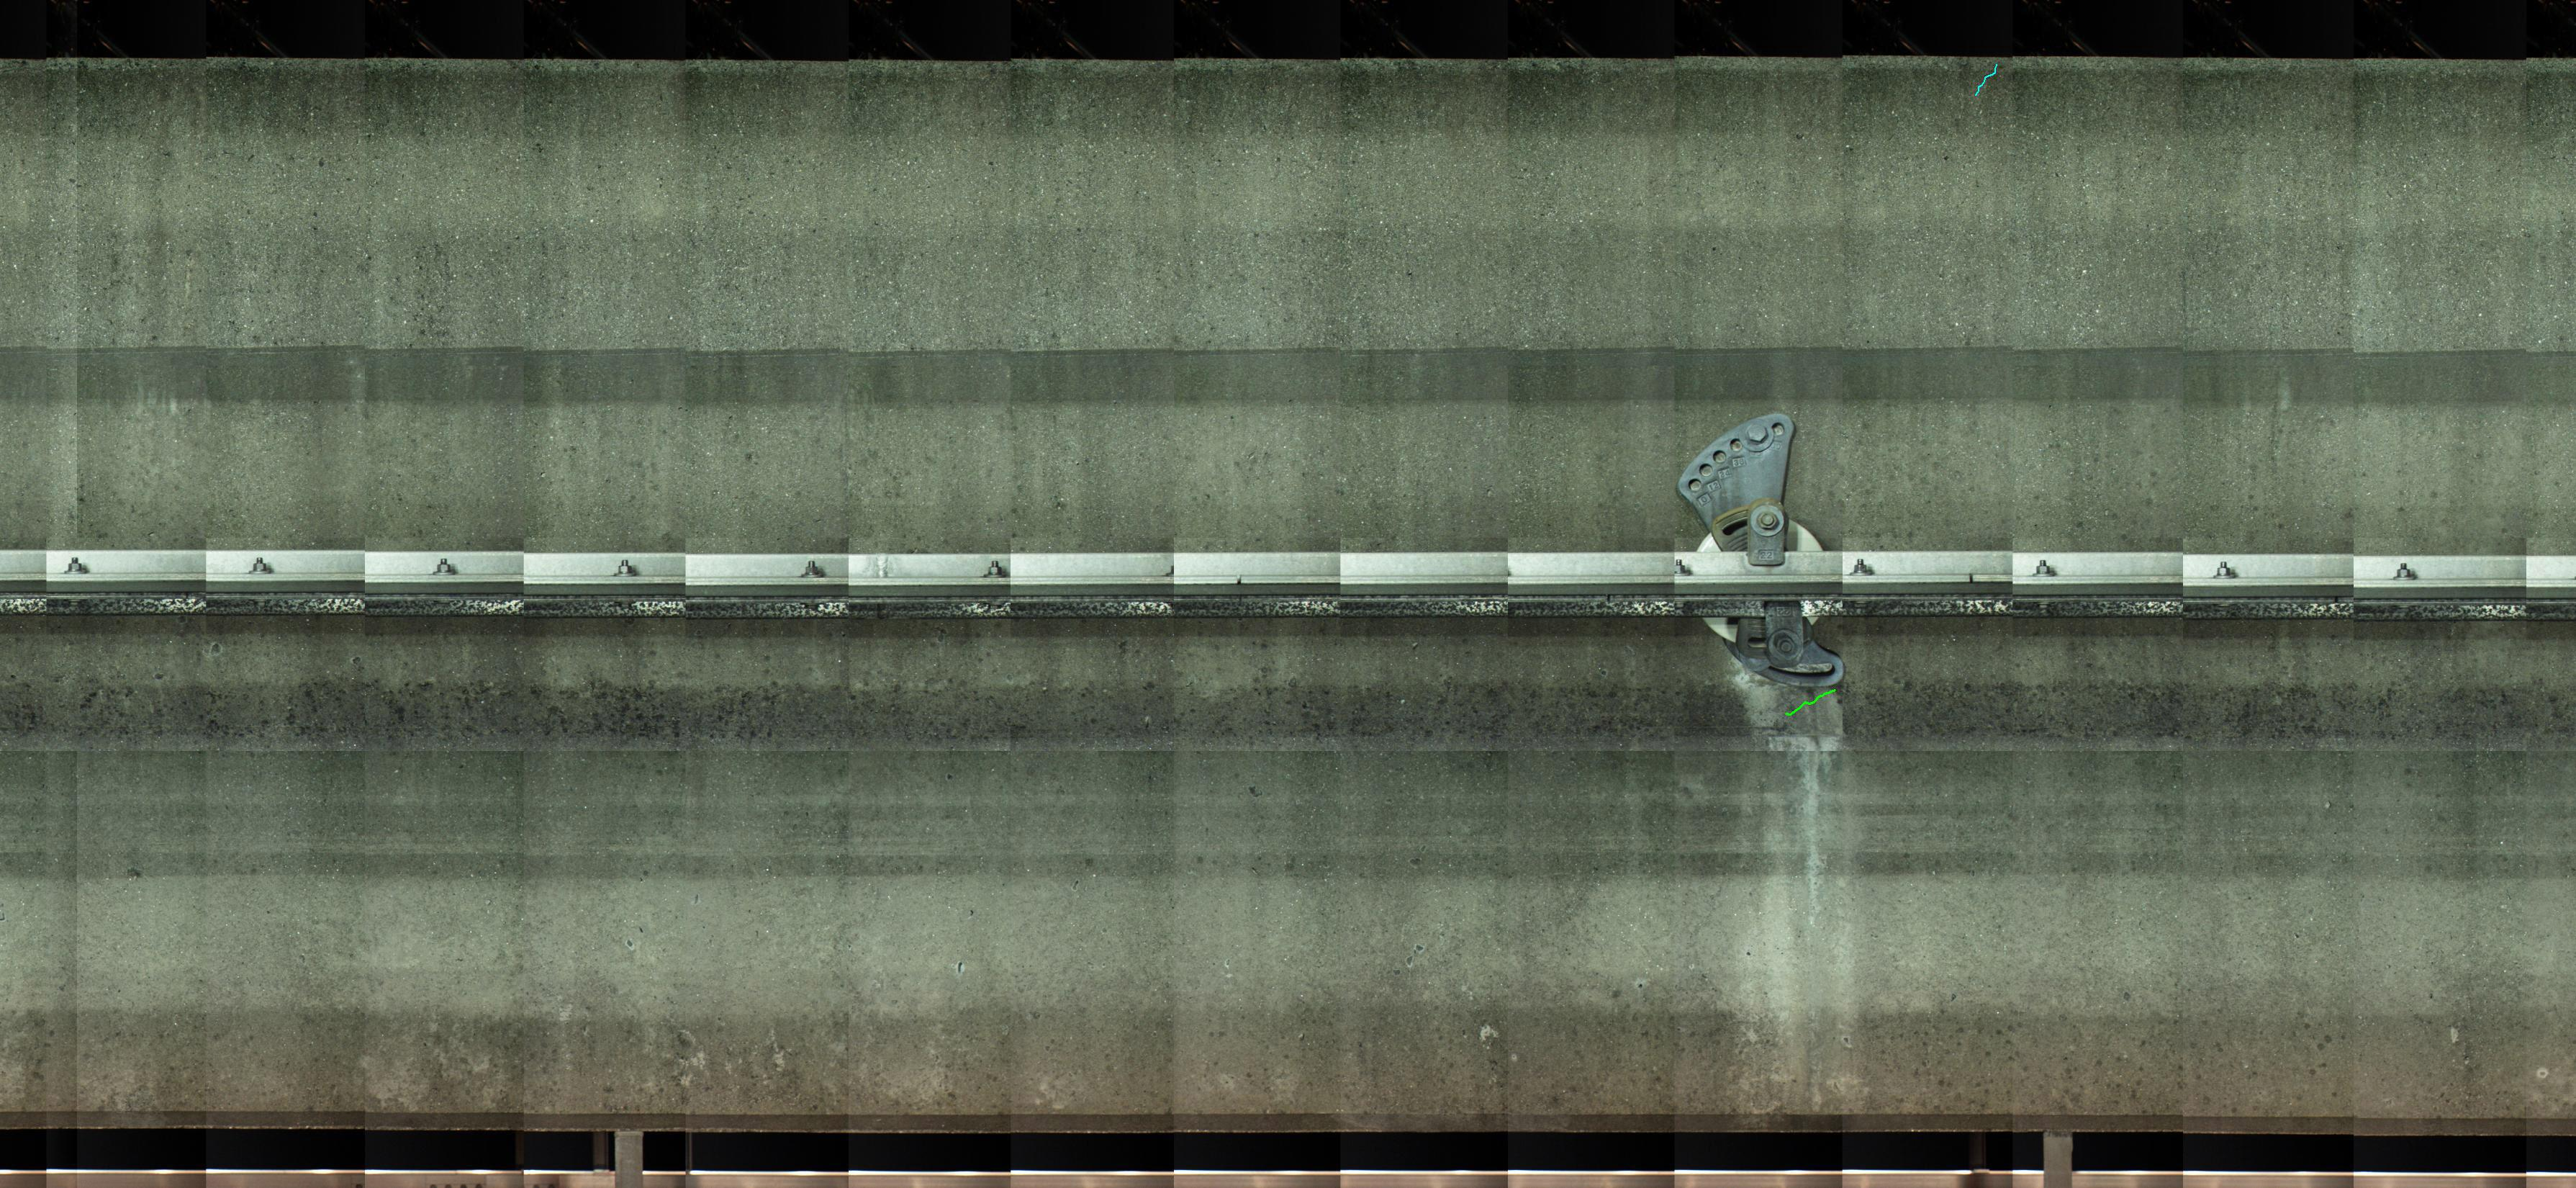concrete: (2, 615, 2573, 1132), (7, 51, 2574, 557)
